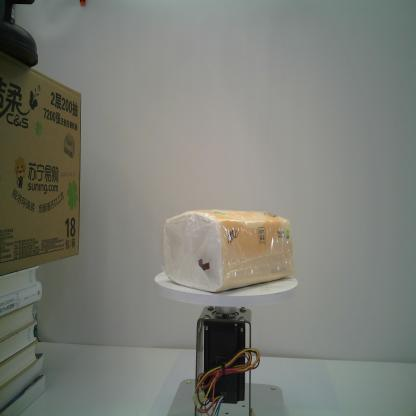Tissue: (161, 207, 296, 294)
